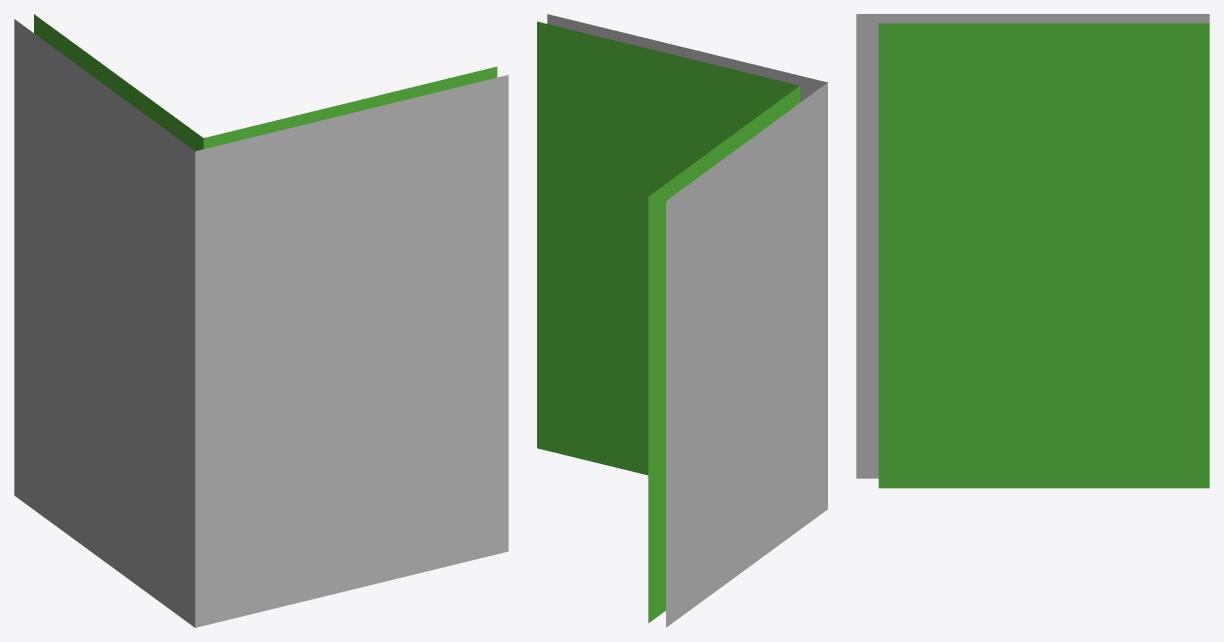
Rendered from Wall_Angle.fbx.
3 renders of one model, left to right at view 1: azimuth 30°, elevation 25°; view 2: azimuth 150°, elevation 25°; view 3: azimuth 270°, elevation 25°, orthographic. The views are drawn at different scales.
Parts seen in each view (by area): view 1: Wall_Angle.002, Wall_Angle.003, Wall_Angle.005, Wall_Angle.004; view 2: Wall_Angle.003, Wall_Angle.005, Wall_Angle.004, Wall_Angle.002; view 3: Wall_Angle.004, Wall_Angle.003.
Boxes of the visible parts, box(x1,y1,x2,y2) form: Wall_Angle.002: box(195, 75, 508, 627); Wall_Angle.003: box(14, 19, 195, 627); Wall_Angle.005: box(203, 66, 497, 148); Wall_Angle.004: box(34, 14, 203, 151); Wall_Angle.003: box(666, 83, 827, 627); Wall_Angle.005: box(537, 21, 799, 475); Wall_Angle.004: box(648, 86, 799, 623); Wall_Angle.002: box(547, 14, 827, 102); Wall_Angle.004: box(878, 23, 1209, 488); Wall_Angle.003: box(856, 14, 1209, 478).
Size of the model in its own units: 2.07 by 3 by 2.07.
